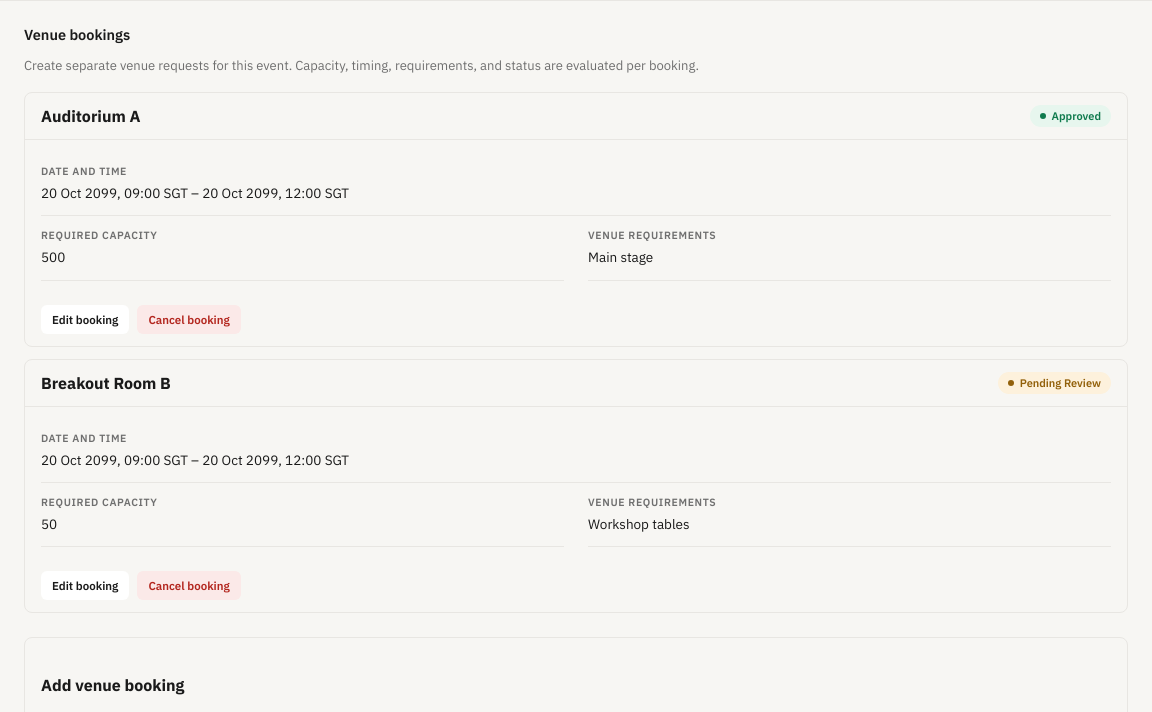
Scenario: stale edit refreshes immutable request while retaining replacement draft
Check: the text "Auditorium A" is shown, box [41,106,140,126]
Click the button "Edit booking" below "500": (85, 319) [41,305,129,334]
(page scrolled)
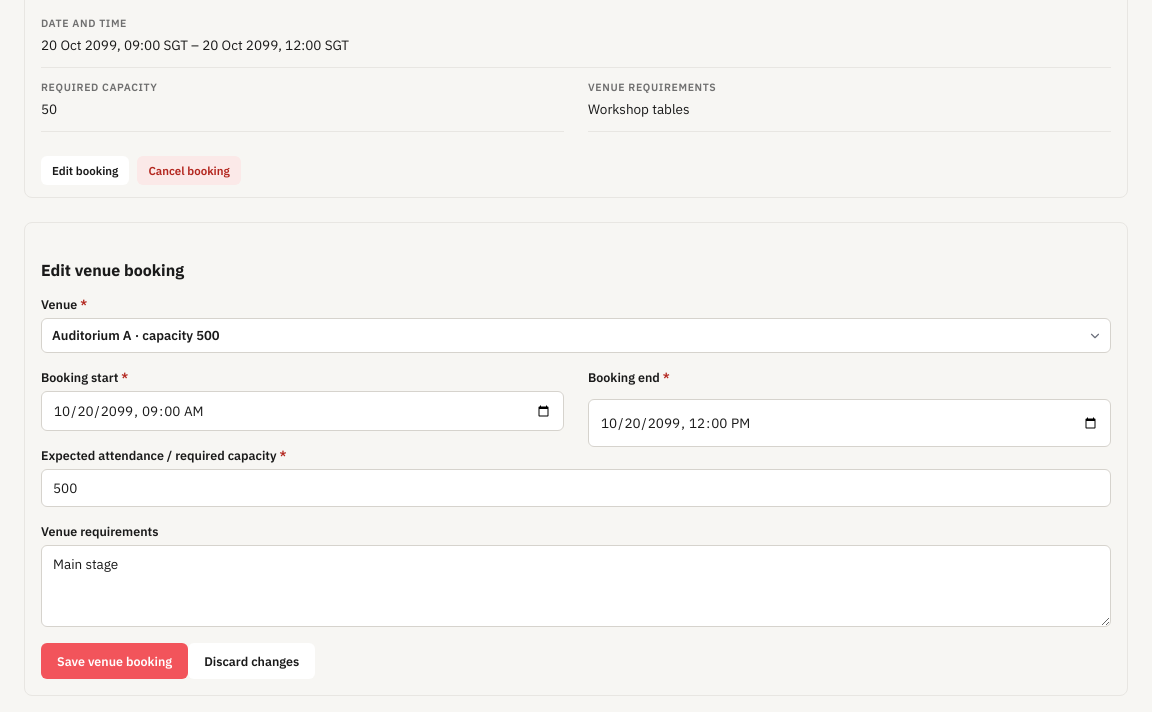
Replace the text in the text box labelled "Venue requirements" with "Keep this draft": (576, 586) [41,545,1111,627]
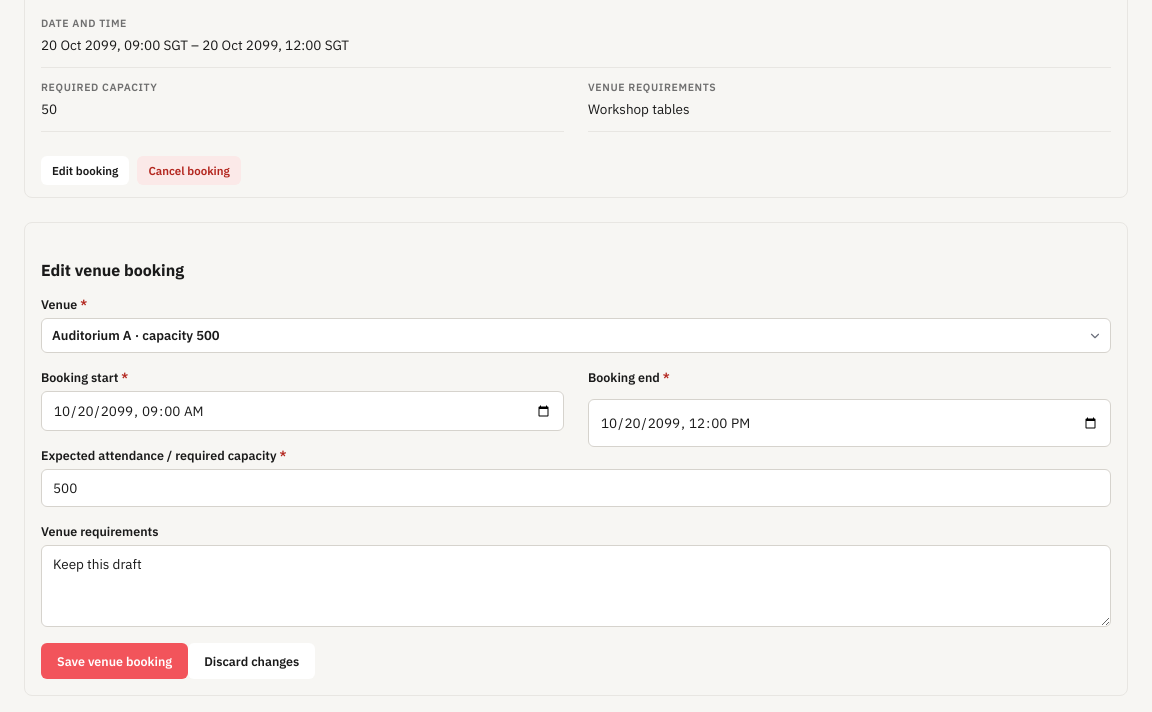
Click the button "Save venue booking": (115, 661) [41,643,188,679]
(page scrolled)
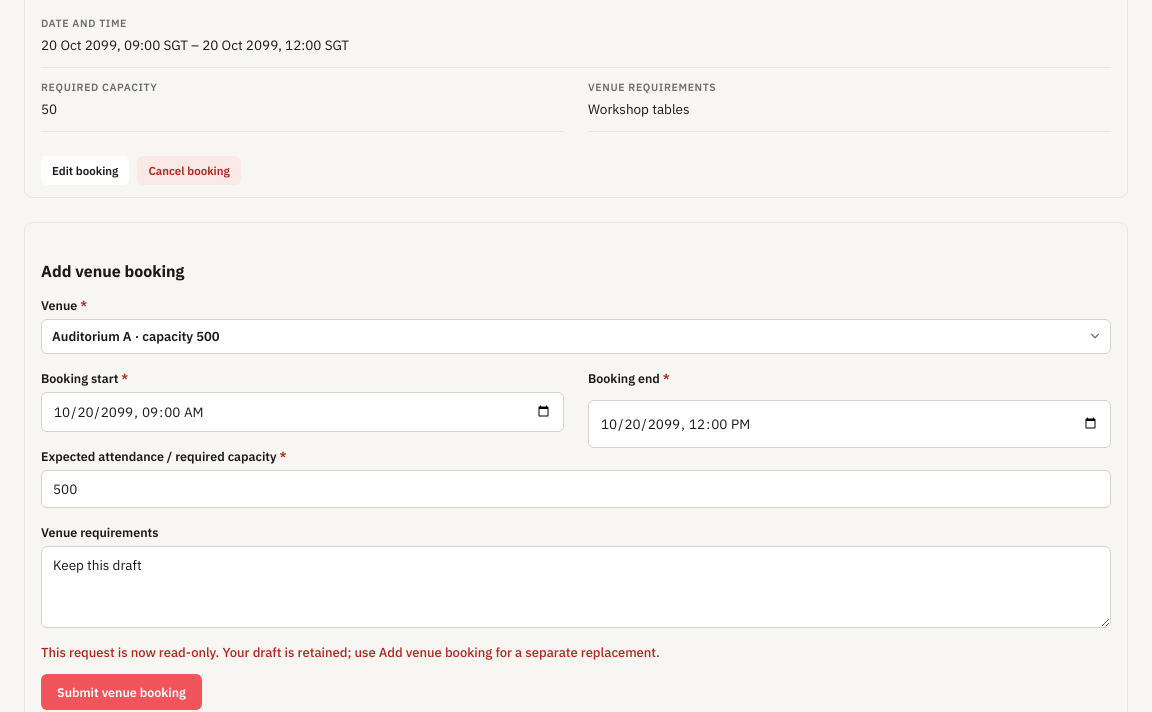
Check: the message shows "This request is now read-only", box [41,644,660,661]
Check: the heading "Add venue booking" is shown, box [41,261,184,281]
